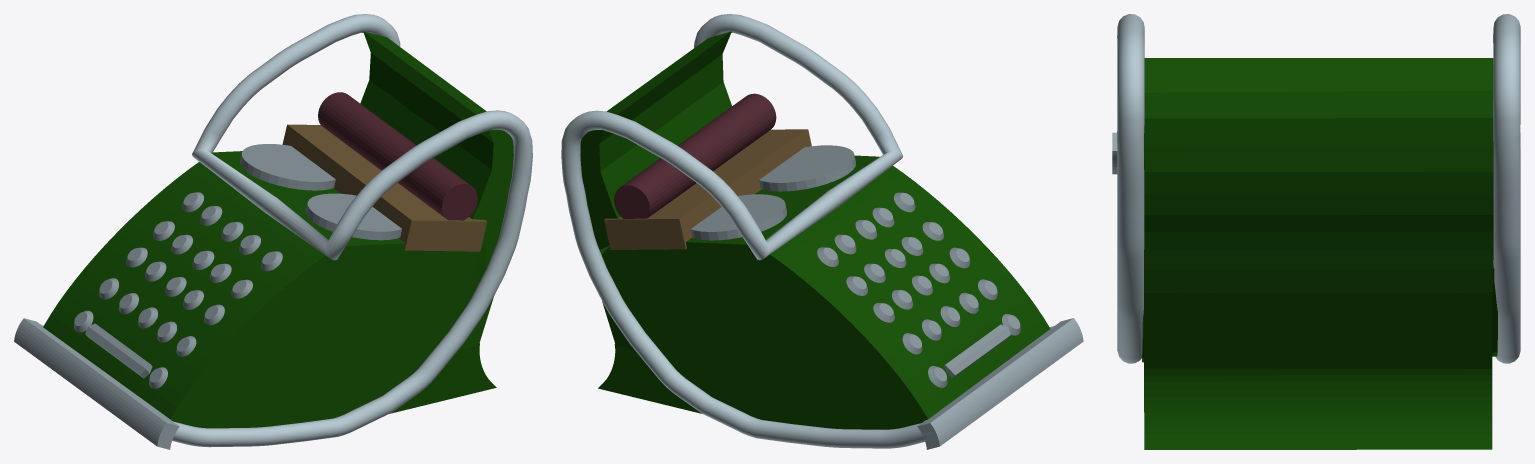
Rendered from MaquinadeEscrever2.glb.
3 views of the same model, side by side, from view 1: azimuth 30°, elevation 25°; view 2: azimuth 150°, elevation 25°; view 3: azimuth 270°, elevation 25° (orthographic). The views are drawn at different scales.
Parts seen in each view (by area): view 1: CorpoMaquina, Cube.002, Suporte, CuboInterior, CilindroInterior, Cube, Cube.003, Object.004, Object.005, Space; view 2: CorpoMaquina, Cube, Suporte, CuboInterior, CilindroInterior, Cube.002, Cube.003, Object.005, Object.004, Space; view 3: Suporte, Cube.002, Cube, CorpoMaquina.
Part boxes in pixels (x1,y1,x2,y2): CorpoMaquina: (43, 151, 487, 428); Cube.002: (172, 110, 532, 447); Suporte: (360, 31, 513, 413); CuboInterior: (282, 124, 486, 251); CilindroInterior: (318, 92, 477, 220); Cube: (42, 14, 400, 326); Cube.003: (14, 318, 179, 449); Object.004: (240, 144, 335, 190); Object.005: (306, 193, 401, 240); Space: (85, 323, 152, 378); CorpoMaquina: (601, 155, 1050, 429); Cube: (561, 110, 931, 448); Suporte: (580, 31, 731, 413); CuboInterior: (604, 129, 811, 249); CilindroInterior: (614, 93, 776, 218); Cube.002: (694, 14, 1053, 328); Cube.003: (917, 318, 1083, 449); Object.005: (759, 145, 855, 191); Object.004: (690, 194, 786, 240); Space: (944, 324, 1010, 378); Suporte: (1144, 58, 1493, 449); Cube.002: (1117, 14, 1144, 363); Cube: (1493, 14, 1520, 363); CorpoMaquina: (1142, 264, 1497, 362).
Bounding box in the file's own units: 2.75 × 1.98 × 1.79.
